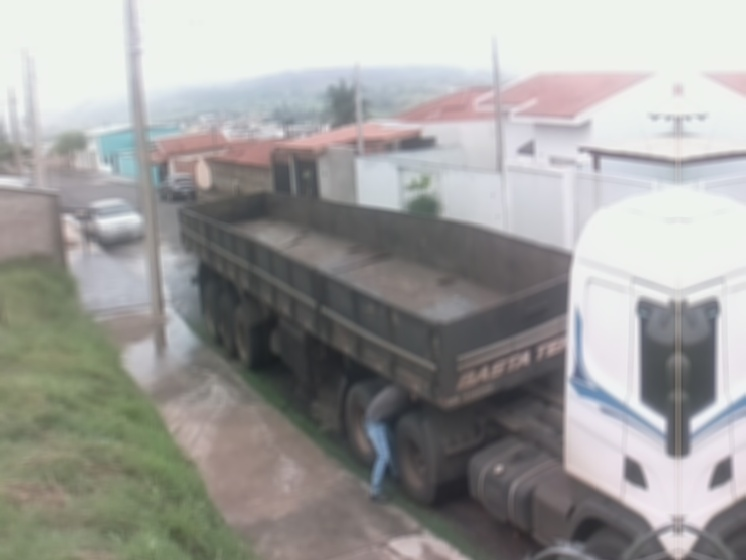person: (360, 383, 418, 504)
